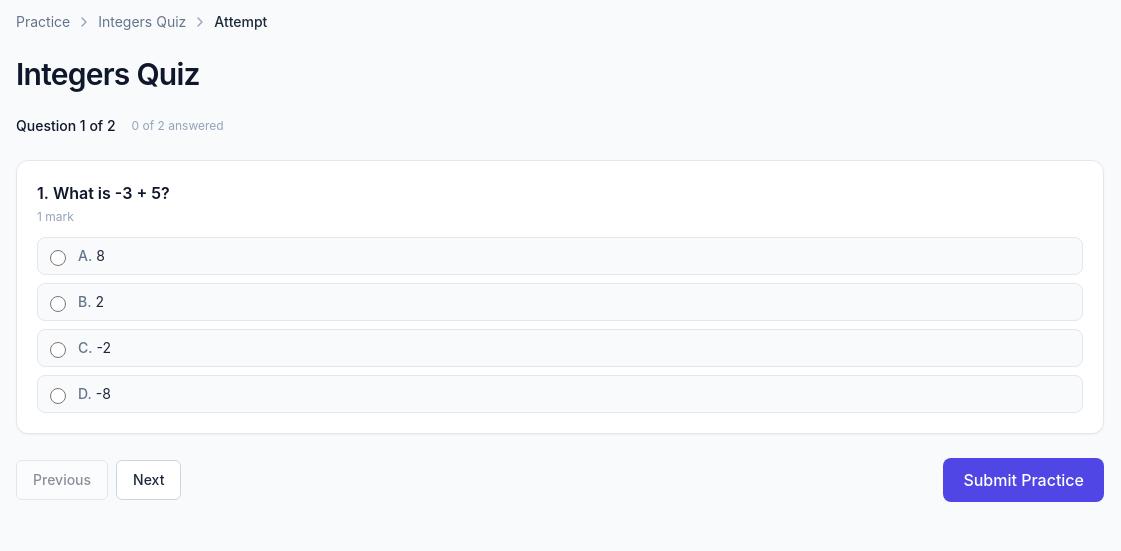
it: Attempt player (AttemptPage) › navigates between questions and preserves selections
Expected: the text "What is -3 + 5?" is shown, [53, 183, 170, 203]
Click the radio button labelled "B. 2".
click(58, 304)  # box [50, 296, 66, 312]
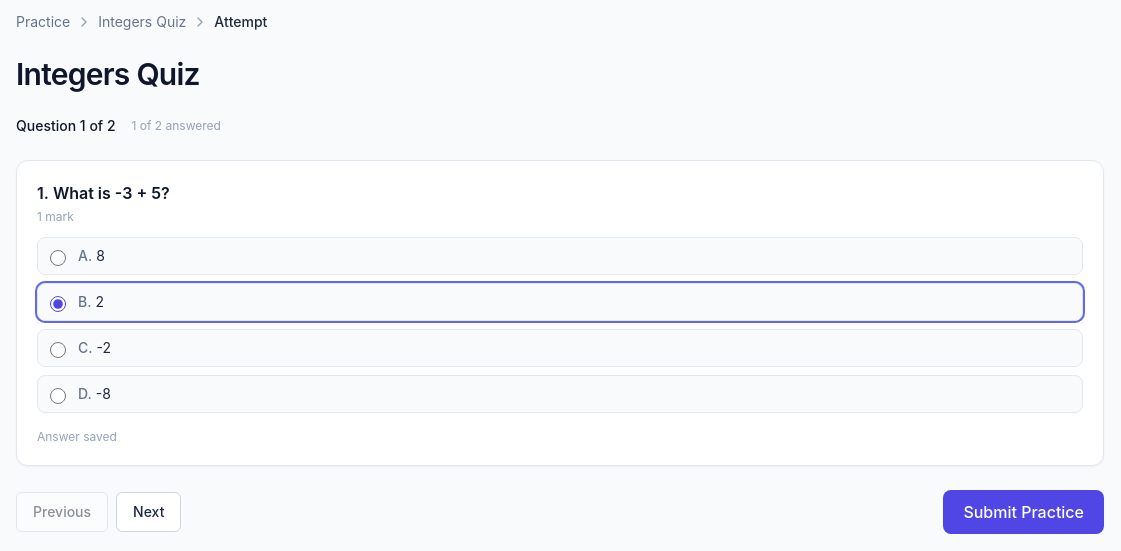
Click the button "Next".
click(149, 512)  # box [116, 492, 181, 532]
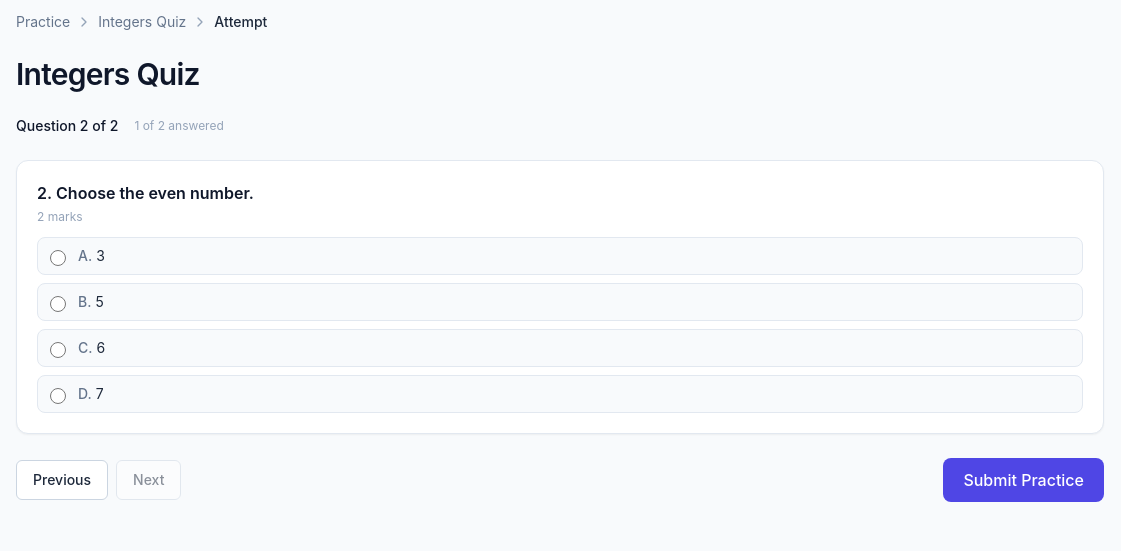
Result: the text "Question 2 of 2" is shown at [16, 116, 118, 136]
Result: the text "Choose the even number." is shown at [56, 183, 254, 203]
Result: the button "Next" is disabled at [116, 460, 181, 500]
Click the button "Previous".
click(62, 480)  # box [16, 460, 108, 500]
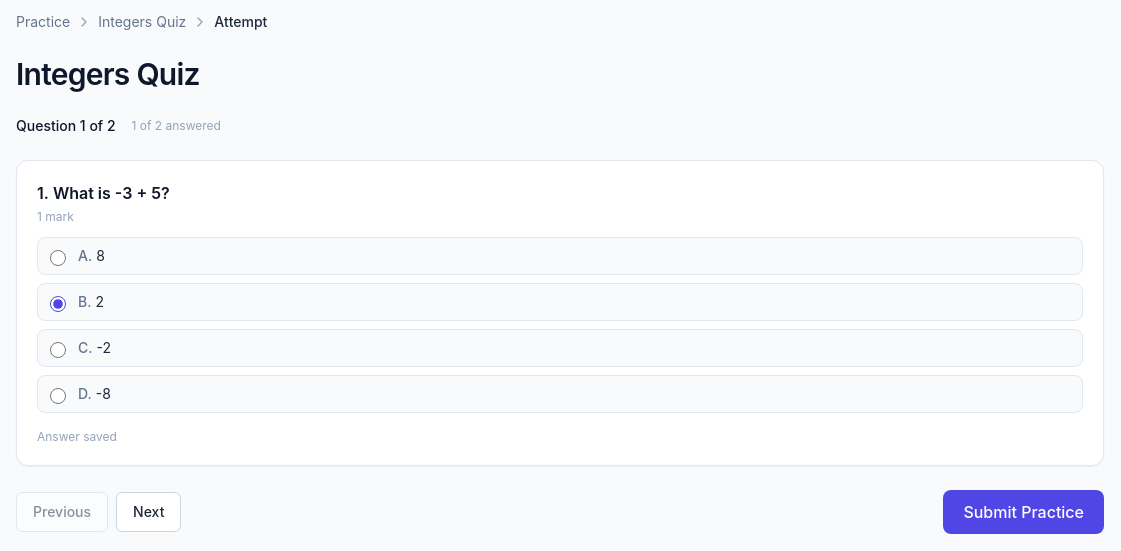
Result: the text "Question 1 of 2" is shown at [16, 116, 116, 136]
Result: the radio button labelled "B. 2" is checked at [50, 296, 66, 312]
